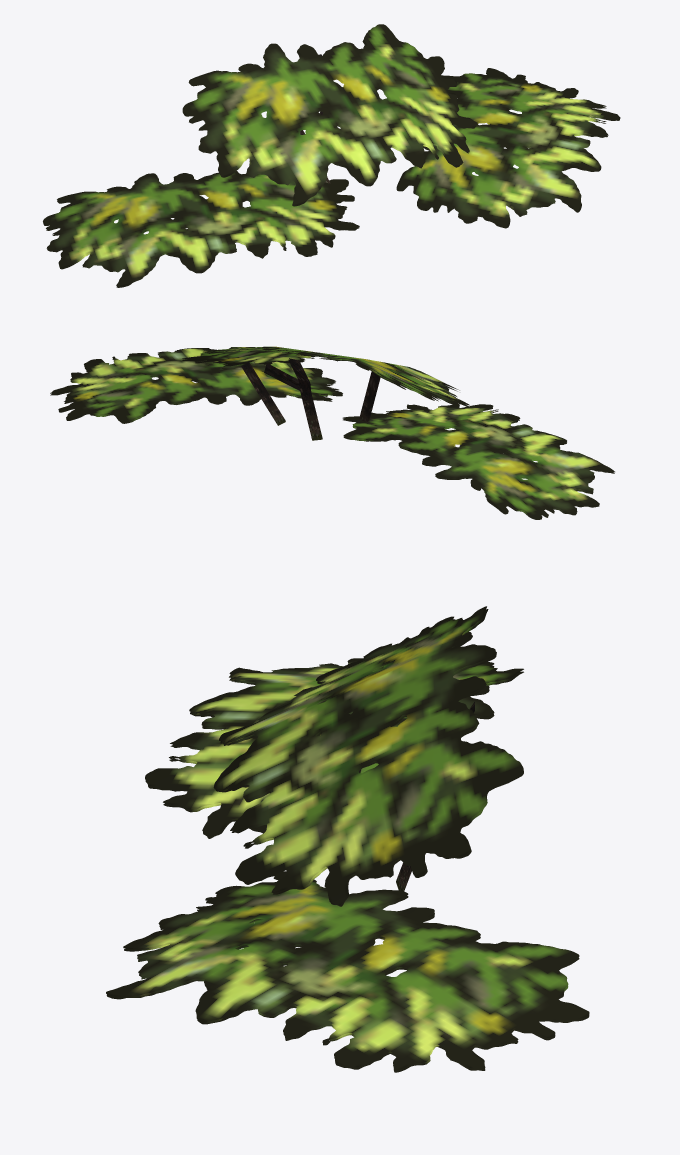
Rendered from foriage04_ds.fbx.
The picture shows the model from 3 angles, top to bottom: view 1: azimuth 30°, elevation 25°; view 2: azimuth 150°, elevation 25°; view 3: azimuth 270°, elevation 25°; orthographic projection. The views are drawn at different scales.
Parts seen in each view (by area): view 1: foriage04_ds; view 2: foriage04_ds; view 3: foriage04_ds.
Boxes of the visible parts, x1=… form: foriage04_ds: x1=43, y1=24, x2=620, y2=287; foriage04_ds: x1=50, y1=346, x2=614, y2=519; foriage04_ds: x1=106, y1=606, x2=589, y2=1072.
Size of the model in its own units: 3.44 by 0.7664 by 1.85.
